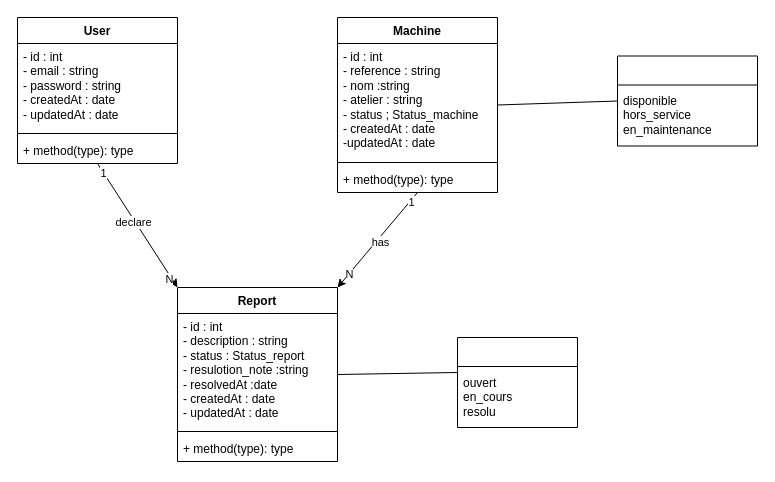
The diagram is 775 pixels wide and 482 high, and some of its shapes have lost their labels. Here are the shapes that lost their labels. From the top down, the box of each, then its label:
(616, 55, 758, 146): Status_machine
(456, 336, 578, 428): Status_report
